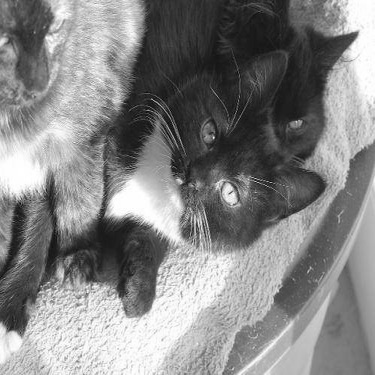cat: (54, 1, 330, 318), (1, 4, 146, 359), (217, 1, 360, 163)
